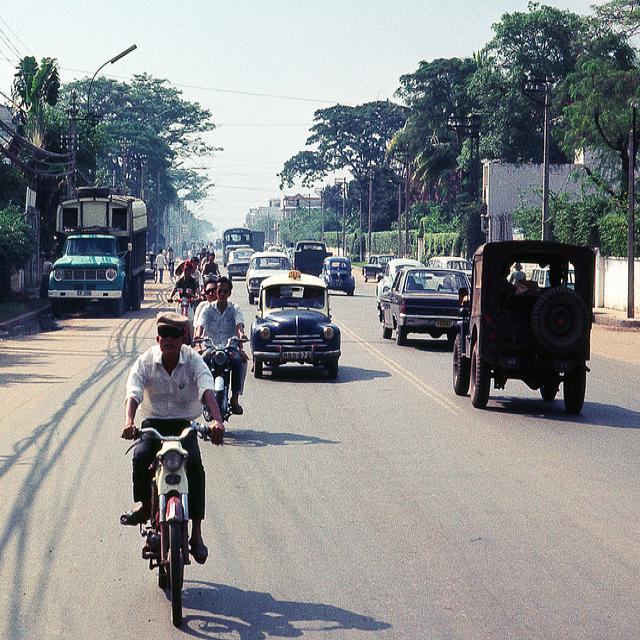motor: (138, 425, 211, 629), (193, 336, 248, 419), (169, 298, 199, 317)
